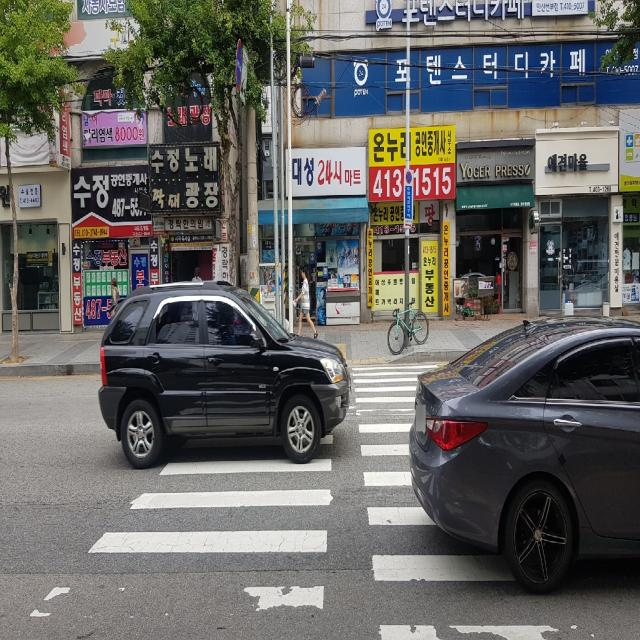횡단보도: (29, 362, 595, 640)
